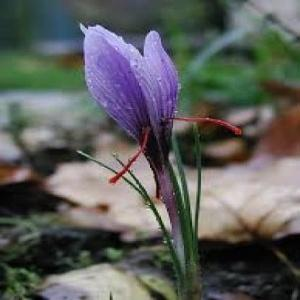Saffron: (81, 23, 180, 176)
